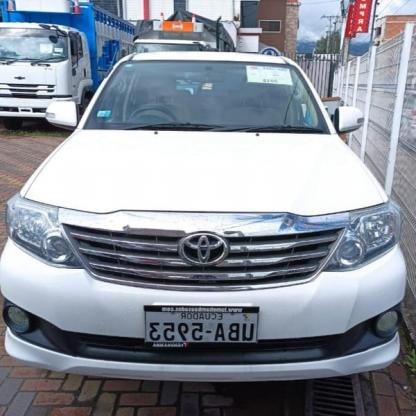Placa: (142, 306, 258, 357)
